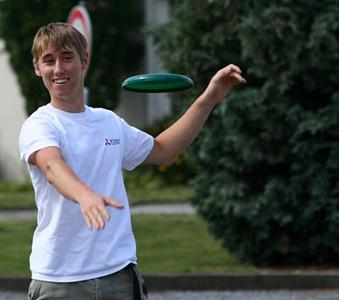person: (19, 22, 247, 300)
